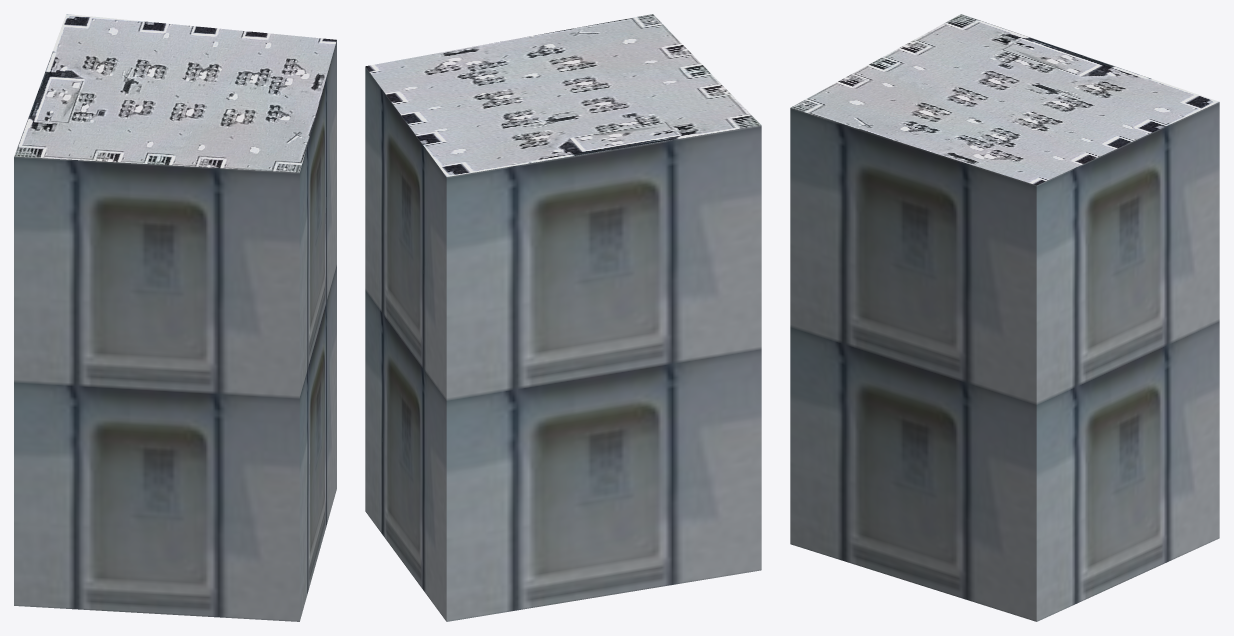
File: ResTex__367.fbx
The picture shows the model from 3 angles, left to right: view 1: azimuth 30°, elevation 25°; view 2: azimuth 150°, elevation 25°; view 3: azimuth 270°, elevation 25°; orthographic projection. The views are drawn at different scales.
Parts seen in each view (by area): view 1: CityEngineMaterial_17_m, CityEngineMaterial_m; view 2: CityEngineMaterial_17_m, CityEngineMaterial_m; view 3: CityEngineMaterial_17_m, CityEngineMaterial_m.
Part boxes in pixels (<box>): CityEngineMaterial_17_m: <box>14,40,336,621</box>; CityEngineMaterial_m: <box>14,14,336,172</box>; CityEngineMaterial_17_m: <box>365,67,761,621</box>; CityEngineMaterial_m: <box>365,14,761,176</box>; CityEngineMaterial_17_m: <box>790,102,1219,621</box>; CityEngineMaterial_m: <box>791,14,1219,185</box>.
Size of the model in its own units: 5.05 by 6 by 5.35.
Materials: 2 (2 with a texture image).
